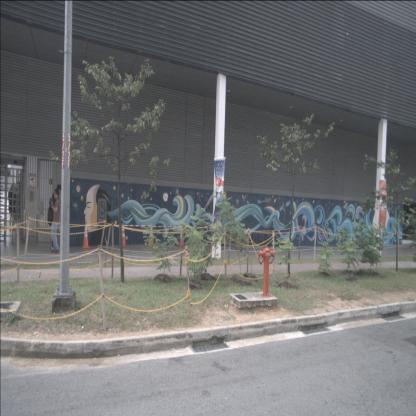cone: (82, 222, 90, 249), (146, 223, 154, 247), (120, 222, 127, 249), (178, 223, 185, 248)
